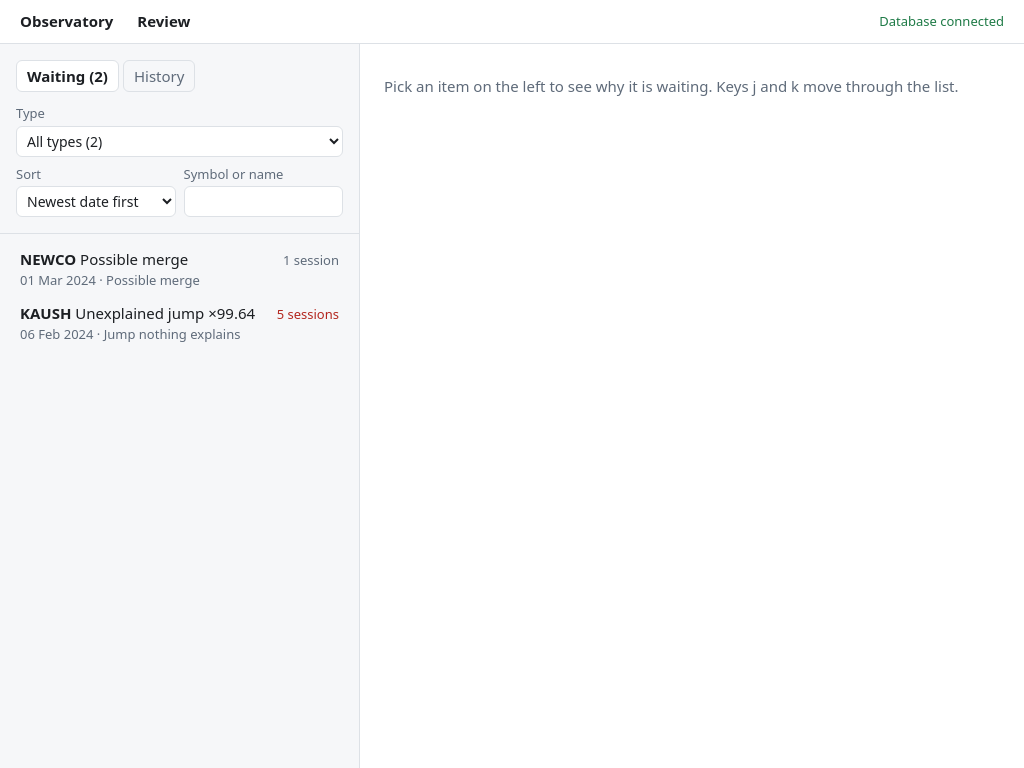
Test: an adjustment shows its reason, numbers and chart
Click the button "KAUSH" at (180, 323), box [12,296,347,350]
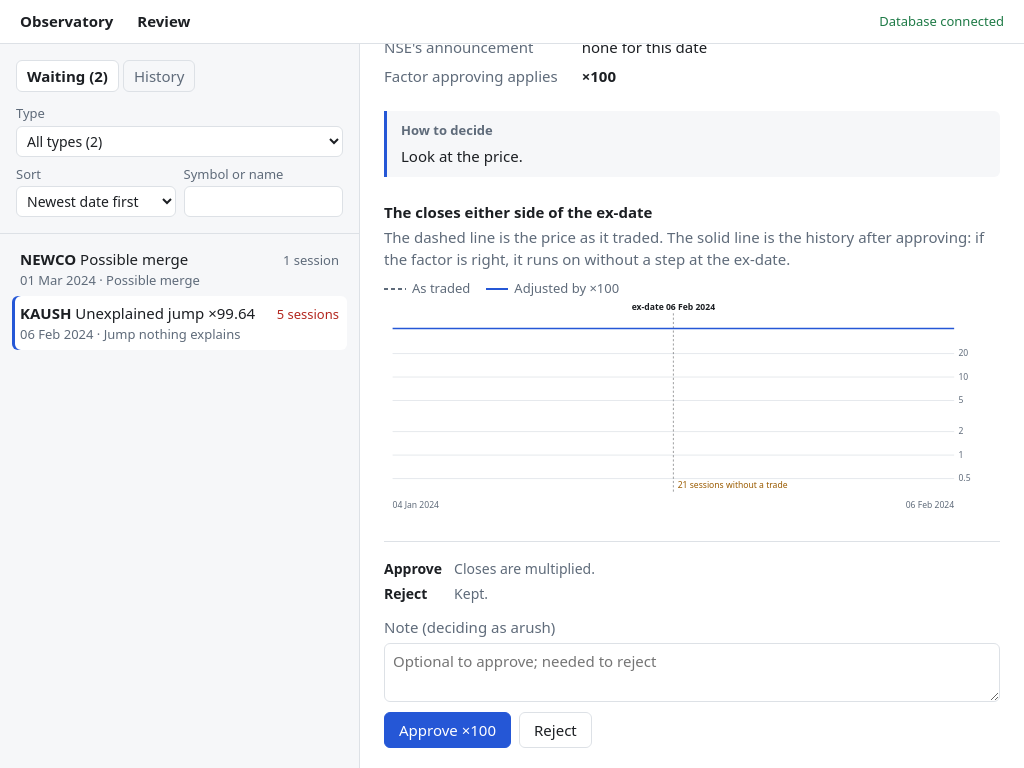
Now the text "Look at the price." is shown, box [401,146,523,166]
Now the text "Closes are multiplied." is shown, box [454,559,595,578]
Now the picture named "Closes around 06 Feb 2024" is shown, box [384,298,1000,513]
